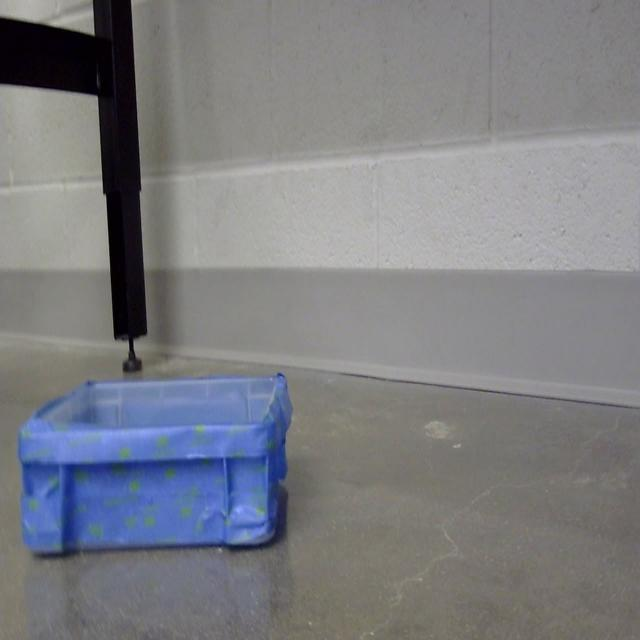bucket: (16, 374, 294, 560)
